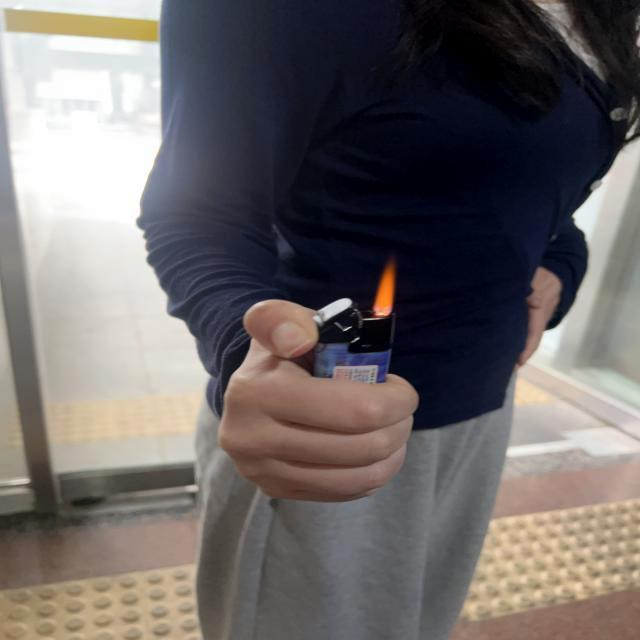fire: (374, 264, 398, 312)
